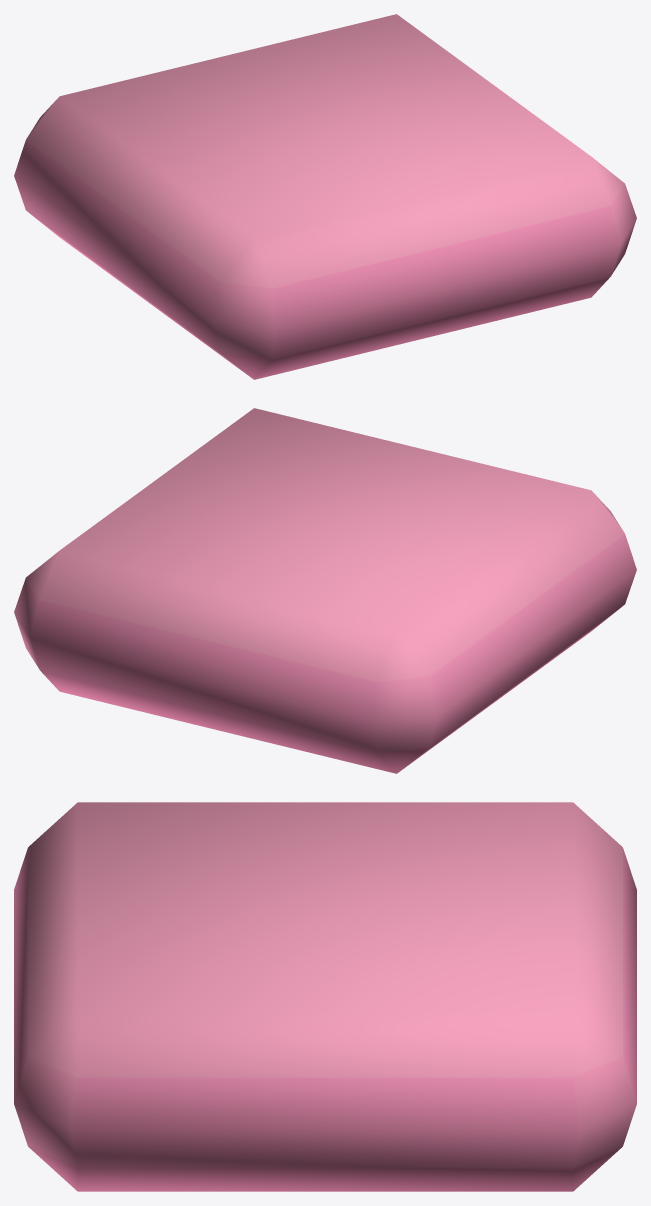
Rendered from towel-pink.glb.
3 views of the same model, one above another, from view 1: azimuth 30°, elevation 25°; view 2: azimuth 150°, elevation 25°; view 3: azimuth 270°, elevation 25° (orthographic). The views are drawn at different scales.
Visible parts, largest first — view 1: towel_pink; view 2: towel_pink; view 3: towel_pink.
Boxes of the visible parts, left/top/right/bottom form: towel_pink: left=14, top=14, right=636, bottom=379; towel_pink: left=14, top=408, right=636, bottom=773; towel_pink: left=14, top=802, right=636, bottom=1191.
Size of the model in its own units: 0.6284 by 0.2 by 0.6284.
Materials: 1 (1 with a texture image).
